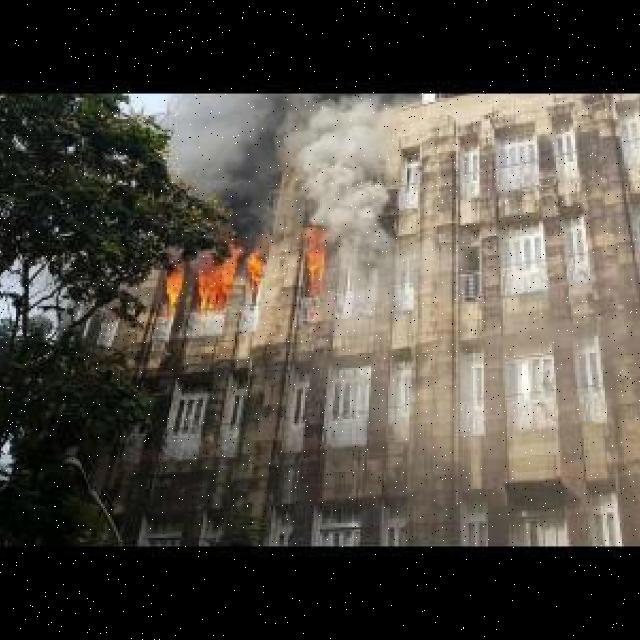fire: (171, 223, 265, 323), (294, 226, 324, 294)
smoke: (276, 94, 396, 242), (154, 91, 271, 198)
